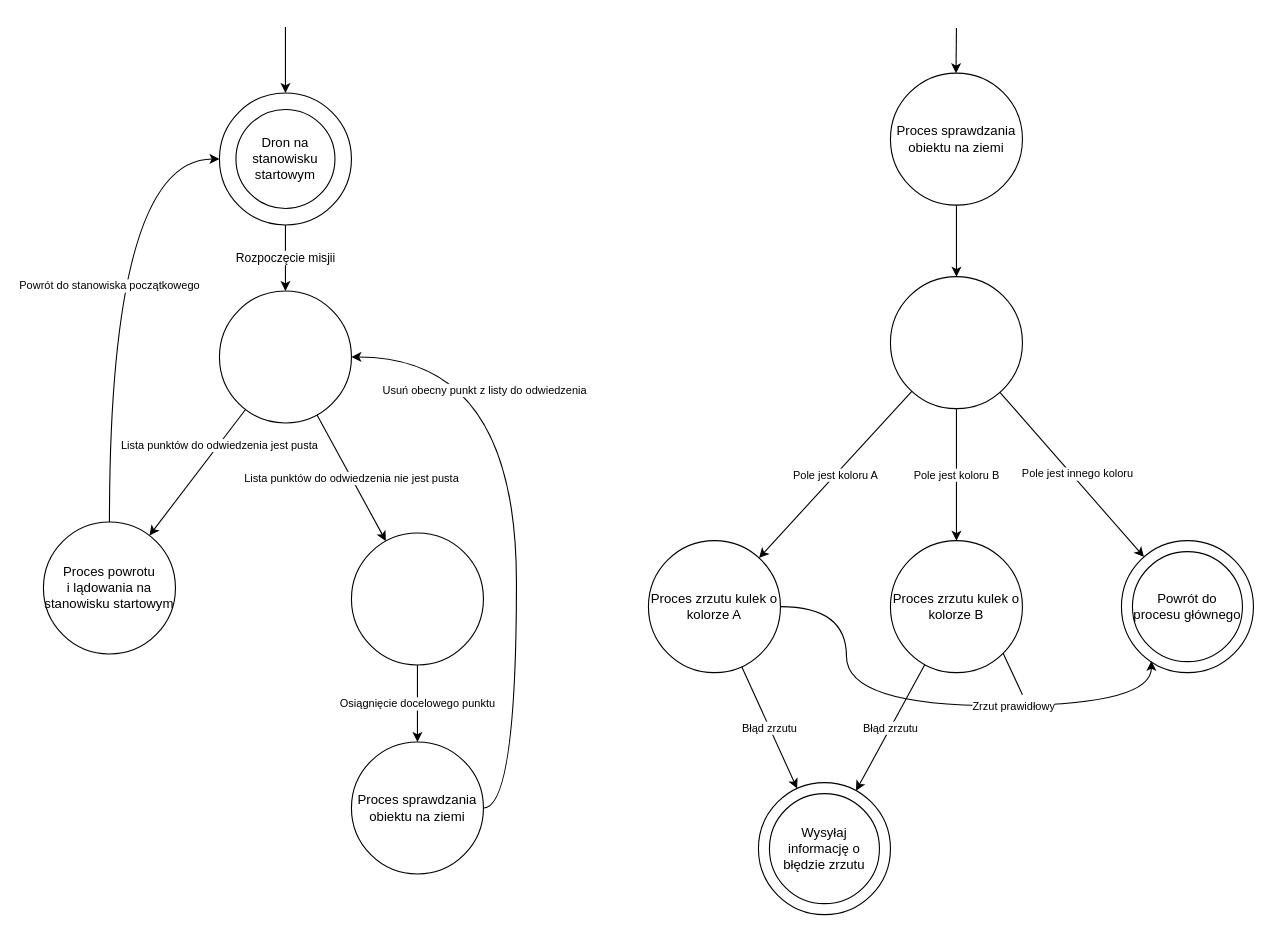
This 1273x934 diagram has some shape labels left out. Here are the shapes that lost their labels. From the top down, the centre of each, then its label:
At pixel 284 356: "Proces sprawdzania stanu misjii".
At pixel 955 342: "Sprawdź jakiego koloru jest pole pod dronem".
At pixel 416 598: "Lot do kolejnego punktu kontrolnego z listy".
